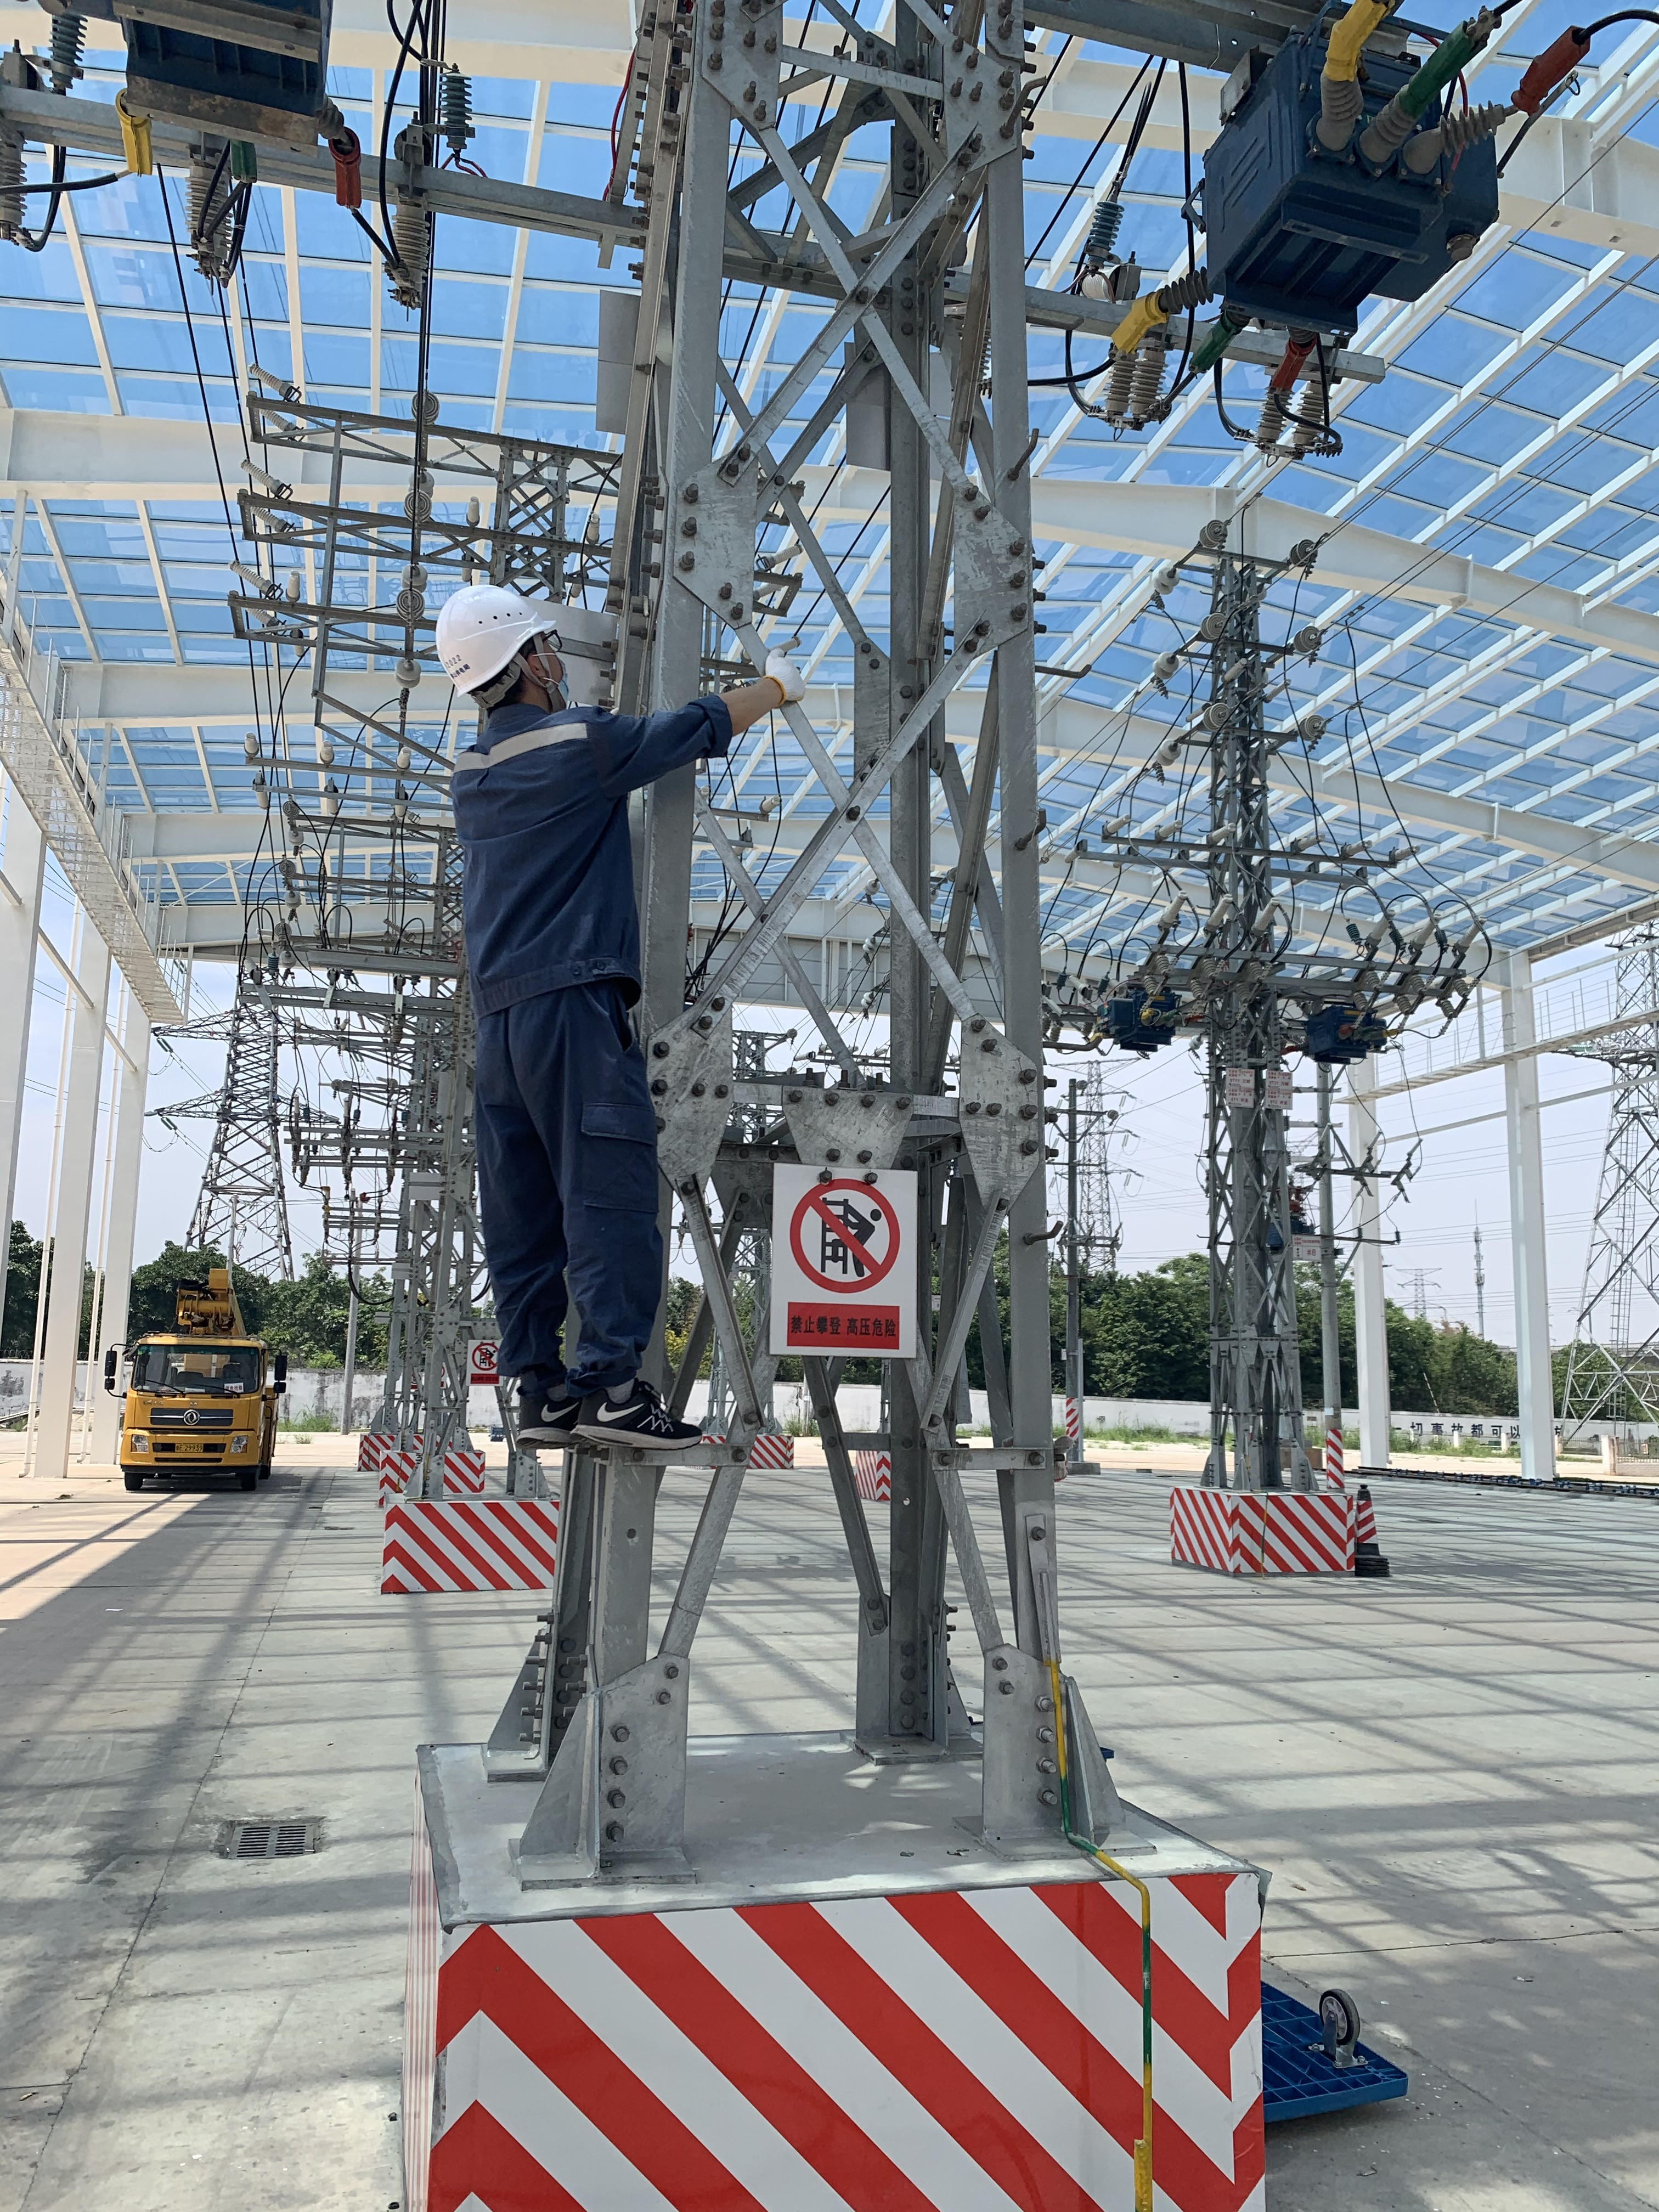downsuit: (464, 1014, 681, 1383)
upsuit: (439, 698, 737, 993)
wrongtop: (697, 671, 793, 749)
